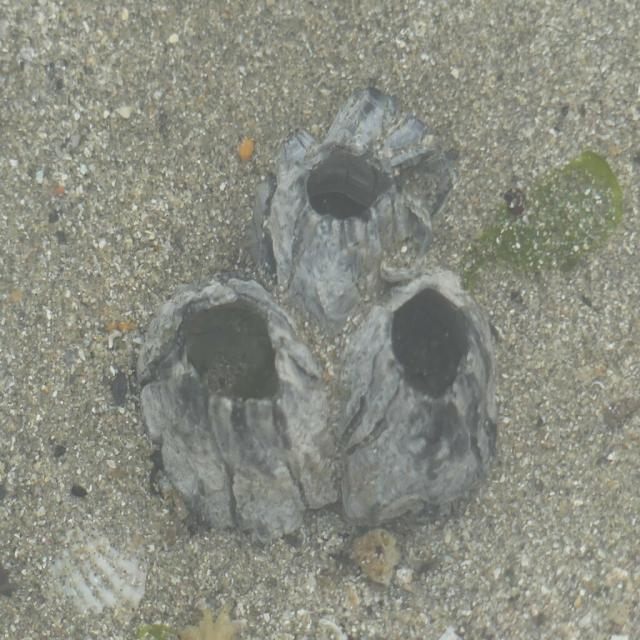barnacles: (128, 275, 324, 535), (329, 296, 513, 535), (262, 107, 447, 310)
